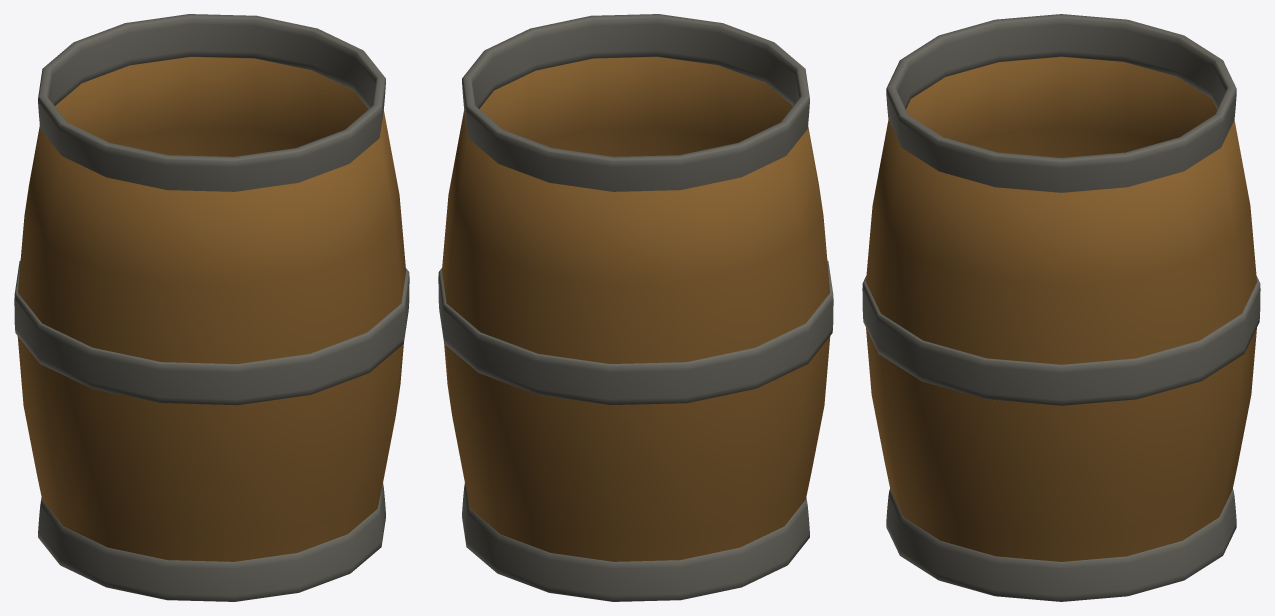
Rendered from wooden-barrel.fbx.
3 views of the same model, side by side, from view 1: azimuth 30°, elevation 25°; view 2: azimuth 150°, elevation 25°; view 3: azimuth 270°, elevation 25° (orthographic).
Parts seen in each view (by area): view 1: Wooden_Barrel; view 2: Wooden_Barrel; view 3: Wooden_Barrel.
Boxes of the visible parts, x1,y1,x2,y2 form: Wooden_Barrel: (14,14,409,601); Wooden_Barrel: (438,14,833,601); Wooden_Barrel: (862,14,1260,601).
Size of the model in its own units: 121 by 148 by 121.
